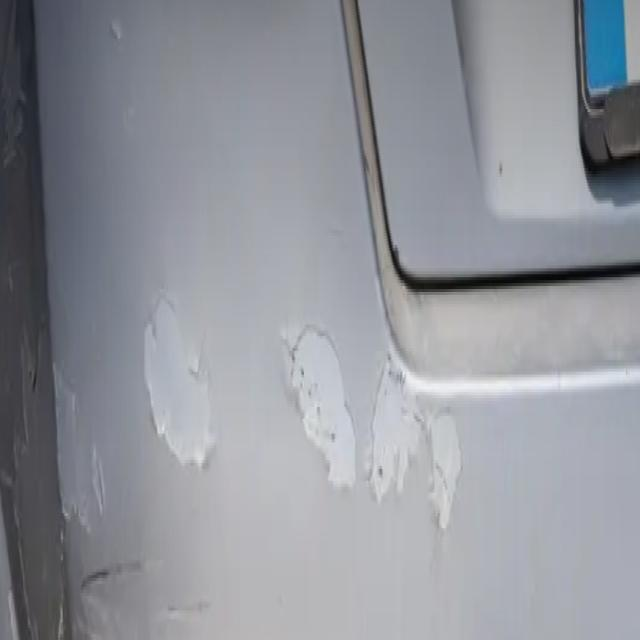scratch: (274, 296, 467, 539), (6, 304, 111, 640), (136, 272, 220, 478), (0, 12, 32, 193)
